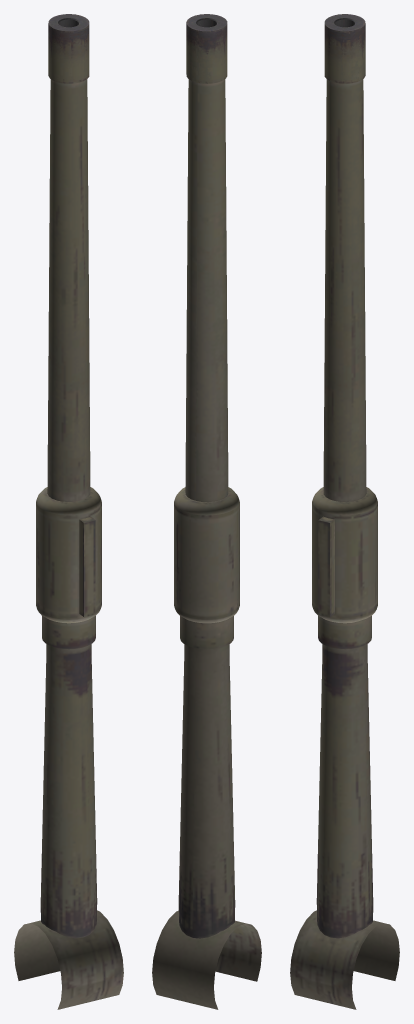
Rendered from Gun_01.glb.
3 renders of one model, left to right at view 1: azimuth 30°, elevation 25°; view 2: azimuth 150°, elevation 25°; view 3: azimuth 330°, elevation 25°, orthographic.
Visible parts, largest first — view 1: set_0_group_0; view 2: set_0_group_0; view 3: set_0_group_0.
Boxes of the visible parts, x1=… form: set_0_group_0: x1=14, y1=14, x2=123, y2=1009; set_0_group_0: x1=152, y1=14, x2=261, y2=1009; set_0_group_0: x1=290, y1=14, x2=399, y2=1009.
Bounding box in the file's own units: 0.2925 × 4.37 × 0.3938.
Materials: 1 (1 with a texture image).
